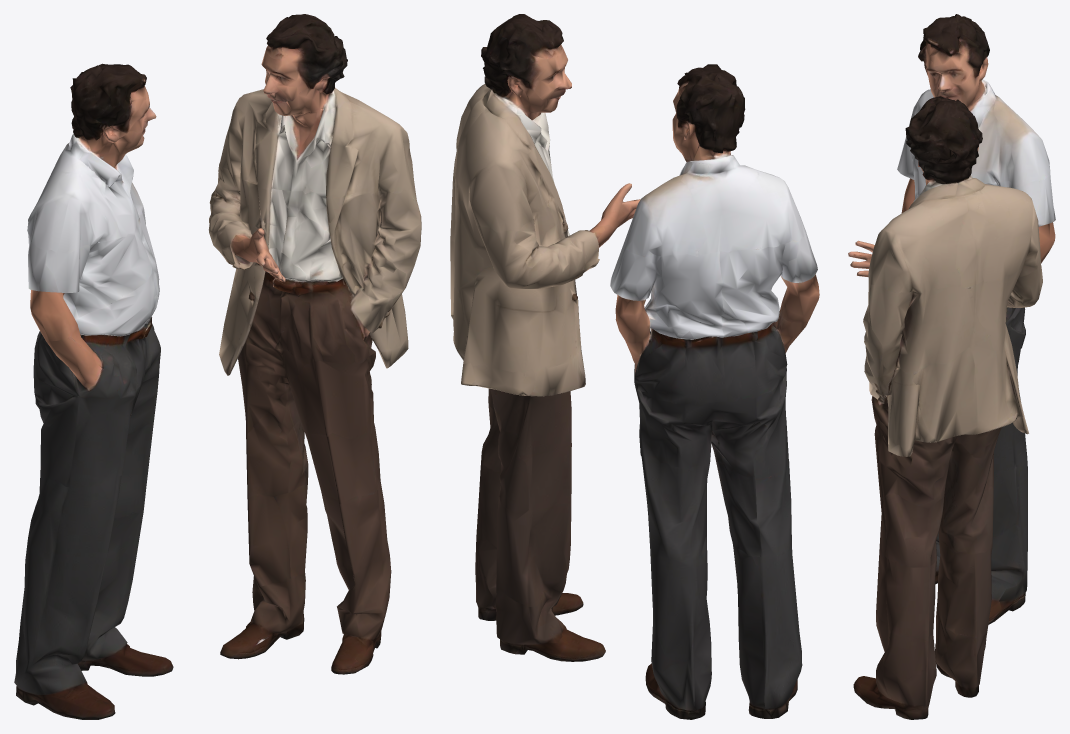
File: conversation.glb
3 views of the same model, side by side, from view 1: azimuth 30°, elevation 25°; view 2: azimuth 150°, elevation 25°; view 3: azimuth 270°, elevation 25° (orthographic). The views are drawn at different scales.
Visible parts, largest first — view 1: mesh_node; view 2: mesh_node; view 3: mesh_node.
Boxes of the visible parts, x1=… form: mesh_node: x1=14, y1=14, x2=421, y2=719; mesh_node: x1=450, y1=14, x2=819, y2=719; mesh_node: x1=848, y1=14, x2=1055, y2=719.
Size of the model in its own units: 1.17 by 1.9 by 0.6043.
Materials: 1 (1 with a texture image).
